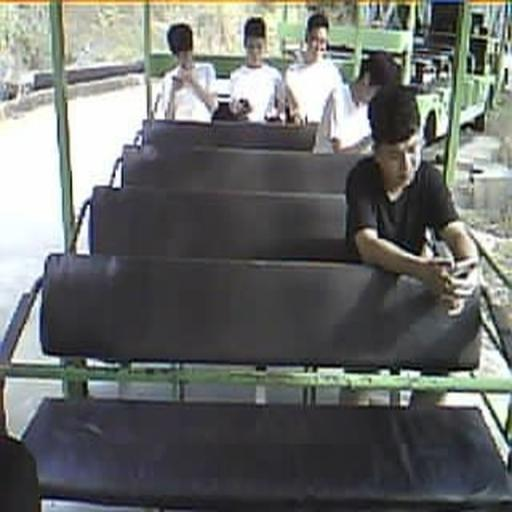persona: (342, 82, 482, 409), (344, 82, 480, 308), (312, 49, 402, 155), (284, 12, 346, 126), (152, 22, 219, 123), (228, 16, 285, 124)
